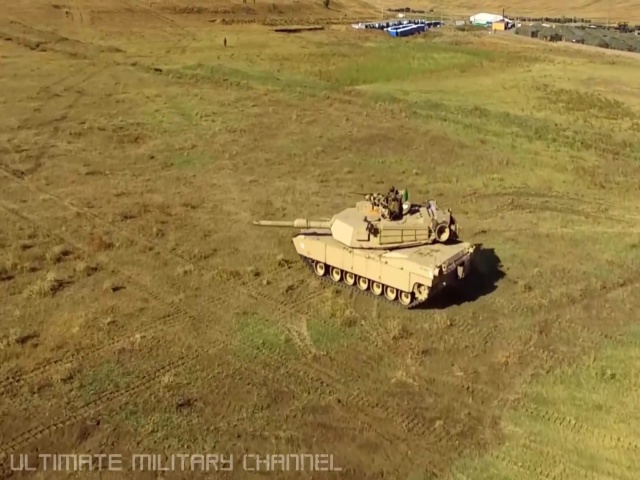vehicle: (290, 186, 475, 305)
